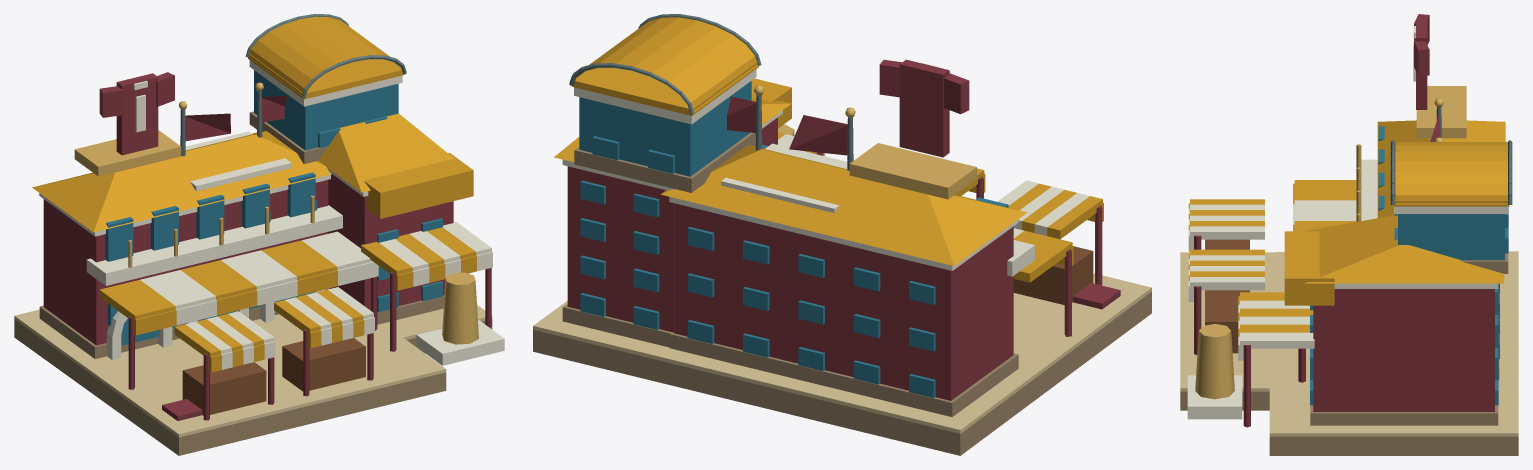
Rendered from club-shop-lv4.glb.
3 views of the same model, side by side, from view 1: azimuth 30°, elevation 25°; view 2: azimuth 150°, elevation 25°; view 3: azimuth 270°, elevation 25° (orthographic). The views are drawn at different scales.
Visible parts, largest first — view 1: foundation_sand, market_row_roof_ochre, awnings_ochre, market_row_burgundy, awnings_white, foundation_stoneDark, showroom_roof_ochre, market_stalls_wood, shop_balcony_white, retail_corner_roof_ochre, upper_shop_windows_glass, retail_corner_burgundy (+23 smaller); view 2: market_row_burgundy, market_row_roof_ochre, foundation_sand, foundation_stoneDark, retail_corner_burgundy, showroom_roof_ochre, market_row_windows_glass, showroom_glass, jersey_sign_burgundy, market_row_stoneDark, sign_plinth_gold, retail_corner_windows_glass (+17 smaller); view 3: retail_corner_burgundy, foundation_sand, retail_corner_roof_ochre, awnings_white, showroom_roof_ochre, awnings_ochre, foundation_stoneDark, showroom_glass, corner_gate_ochre, retail_corner_stoneDark, market_row_roof_ochre, club_trophy_gold (+14 smaller).
Part boxes in pixels (bbox=[...]): foundation_sand: bbox=[14, 305, 492, 437]; market_row_roof_ochre: bbox=[32, 131, 331, 232]; awnings_ochre: bbox=[99, 227, 476, 359]; market_row_burgundy: bbox=[43, 180, 328, 345]; awnings_white: bbox=[140, 222, 491, 354]; foundation_stoneDark: bbox=[14, 319, 492, 455]; showroom_roof_ochre: bbox=[248, 16, 404, 99]; market_stalls_wood: bbox=[182, 338, 365, 415]; shop_balcony_white: bbox=[86, 205, 342, 285]; retail_corner_roof_ochre: bbox=[318, 113, 453, 192]; upper_shop_windows_glass: bbox=[105, 172, 315, 261]; retail_corner_burgundy: bbox=[328, 174, 453, 310]; market_row_burgundy: bbox=[674, 203, 1013, 400]; market_row_roof_ochre: bbox=[660, 145, 1027, 265]; foundation_sand: bbox=[533, 273, 1151, 433]; foundation_stoneDark: bbox=[533, 291, 1151, 455]; retail_corner_burgundy: bbox=[567, 117, 777, 332]; showroom_roof_ochre: bbox=[572, 17, 758, 115]; market_row_windows_glass: bbox=[687, 227, 935, 397]; showroom_glass: bbox=[579, 81, 751, 176]; jersey_sign_burgundy: bbox=[879, 59, 969, 157]; market_row_stoneDark: bbox=[669, 333, 1018, 416]; sign_plinth_gold: bbox=[849, 143, 976, 199]; retail_corner_windows_glass: bbox=[580, 180, 659, 329]; retail_corner_burgundy: bbox=[1313, 289, 1494, 411]; foundation_sand: bbox=[1180, 251, 1518, 436]; retail_corner_roof_ochre: bbox=[1304, 215, 1504, 283]; awnings_white: bbox=[1190, 200, 1356, 348]; showroom_roof_ochre: bbox=[1393, 142, 1509, 206]; awnings_ochre: bbox=[1190, 180, 1356, 332]; foundation_stoneDark: bbox=[1180, 391, 1518, 455]; showroom_glass: bbox=[1398, 214, 1504, 260]; corner_gate_ochre: bbox=[1284, 231, 1334, 305]; retail_corner_stoneDark: bbox=[1310, 405, 1498, 425]; market_row_roof_ochre: bbox=[1377, 120, 1505, 217]; club_trophy_gold: bbox=[1195, 324, 1234, 399].
Size of the model in its own units: 1 by 0.7283 by 0.7861.
